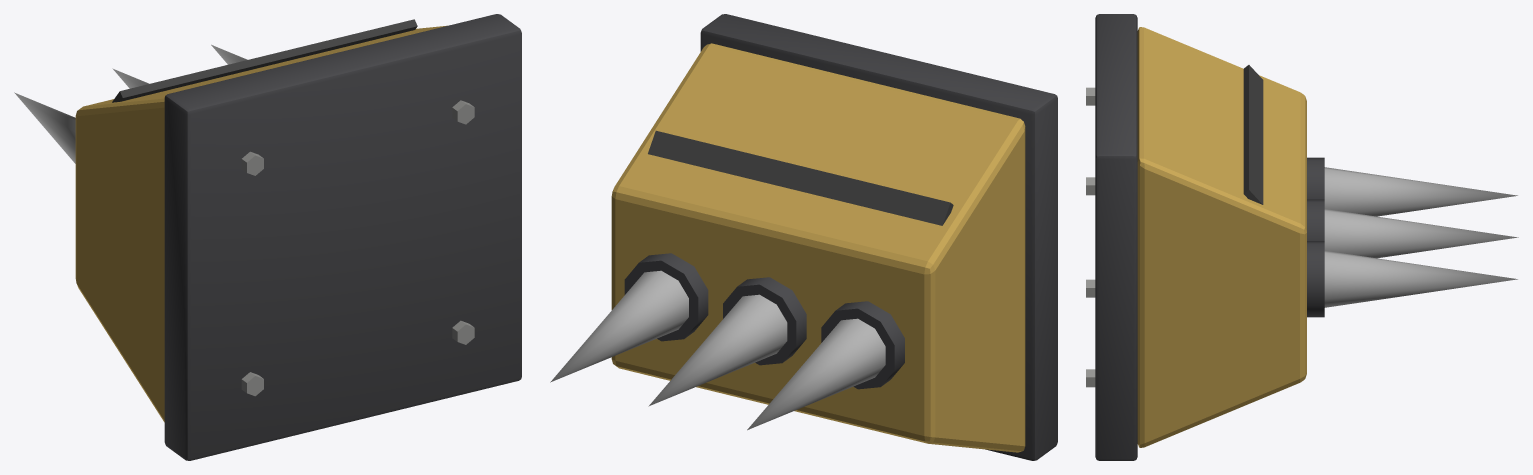
The model's file is spike.glb.
The picture shows the model from 3 angles, left to right: view 1: azimuth 30°, elevation 25°; view 2: azimuth 150°, elevation 25°; view 3: azimuth 270°, elevation 25°; orthographic projection. The views are drawn at different scales.
Visible parts, largest first — view 1: Part; view 2: Part; view 3: Part.
Boxes of the visible parts, x1,y1,x2,y2 form: Part: [14, 14, 521, 460]; Part: [550, 14, 1057, 460]; Part: [1086, 14, 1518, 460].
Bounding box in the file's own units: 0.48 × 0.48 × 0.613.
